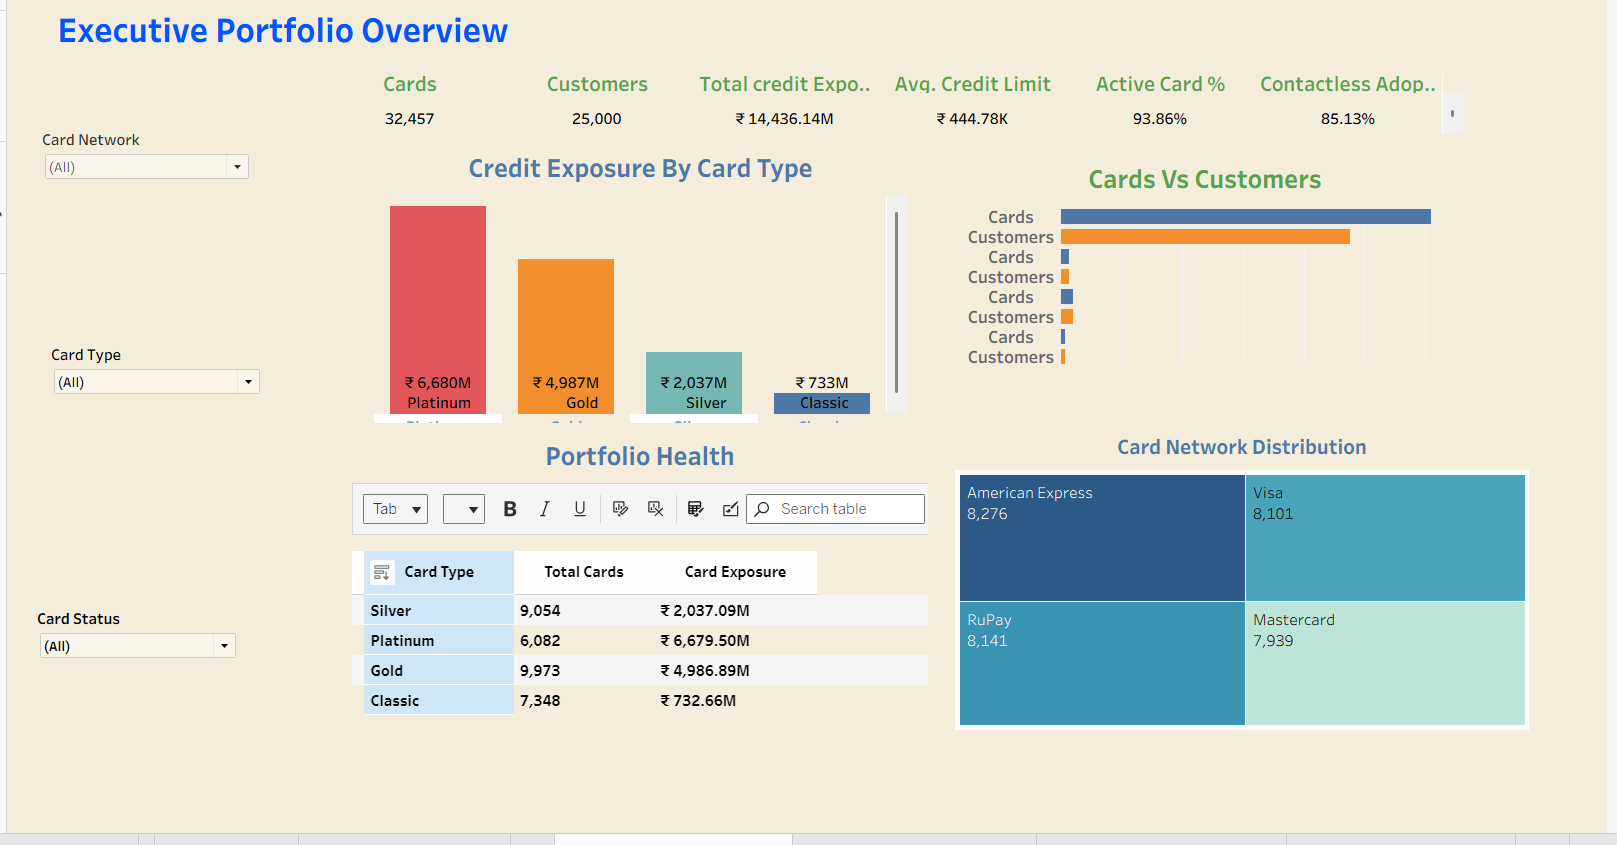

Layout of this report page (visuals, bound fields, positions):
{"tool":"tableau","page":{"name":"Executive Portfolio Overview","canvas":[1600,900],"ordinal":2},"visuals":[{"type":"text","box":[38,21,476,54]},{"type":"worksheet","title":"KPI ","mark":"Automatic","box":[309,92,1147,61]},{"type":"filter","title":"CardNetwork Distribution","param":"[federated.1vz7fz40ilj1zt1456ini1l9mxkm].[none:Card_Network:nk]","box":[35,148,210,77]},{"type":"worksheet","title":"Credit Exposure by cardtype ","mark":"Bar","rows":["Credit_Limit"],"cols":["Card_Type"],"box":[367,165,533,277]},{"type":"worksheet","title":"Cards Vs Customers","mark":"Automatic","rows":["Card_Status"],"box":[954,176,488,248]},{"type":"filter","title":"Credit Exposure by cardtype ","param":"[federated.1vz7fz40ilj1zt1456ini1l9mxkm].[none:Card_Type:nk]","box":[44,363,212,75]},{"type":"worksheet","title":"CardNetwork Distribution","mark":"Automatic","box":[948,447,574,302]},{"type":"worksheet","title":"Portfolio Health","mark":"VizExtension","box":[345,453,576,307]},{"type":"filter","title":"Portfolio Health","param":"[federated.1vz7fz40ilj1zt1456ini1l9mxkm].[none:Card_Status:nk]","box":[30,627,202,70]}]}

Visuals, with their boxes on the page's 1600x900 design canvas (x1, y1, x2, y2). These are canvas units, not pixel positions in the 1617x845 screenshot, which may show the page scaled, cropped or inside an application window:
text: (38,21,514,75)
"KPI " worksheet: (309,92,1456,153)
"CardNetwork Distribution" filter: (35,148,245,225)
"Credit Exposure by cardtype " worksheet (Bar marks): (367,165,900,442)
"Cards Vs Customers" worksheet: (954,176,1442,424)
"Credit Exposure by cardtype " filter: (44,363,256,438)
"CardNetwork Distribution" worksheet: (948,447,1522,749)
"Portfolio Health" worksheet (VizExtension marks): (345,453,921,760)
"Portfolio Health" filter: (30,627,232,697)
